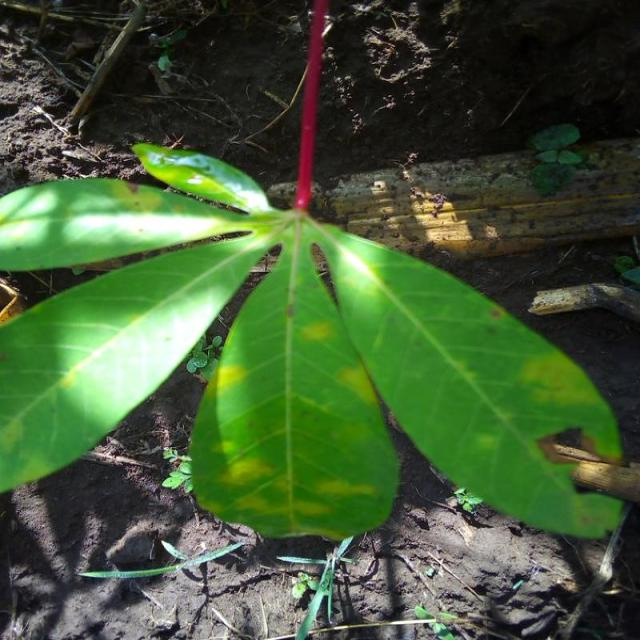cassava leaf: (1, 2, 630, 546), (310, 214, 630, 540), (187, 213, 400, 542), (0, 175, 266, 272), (130, 140, 271, 215)
